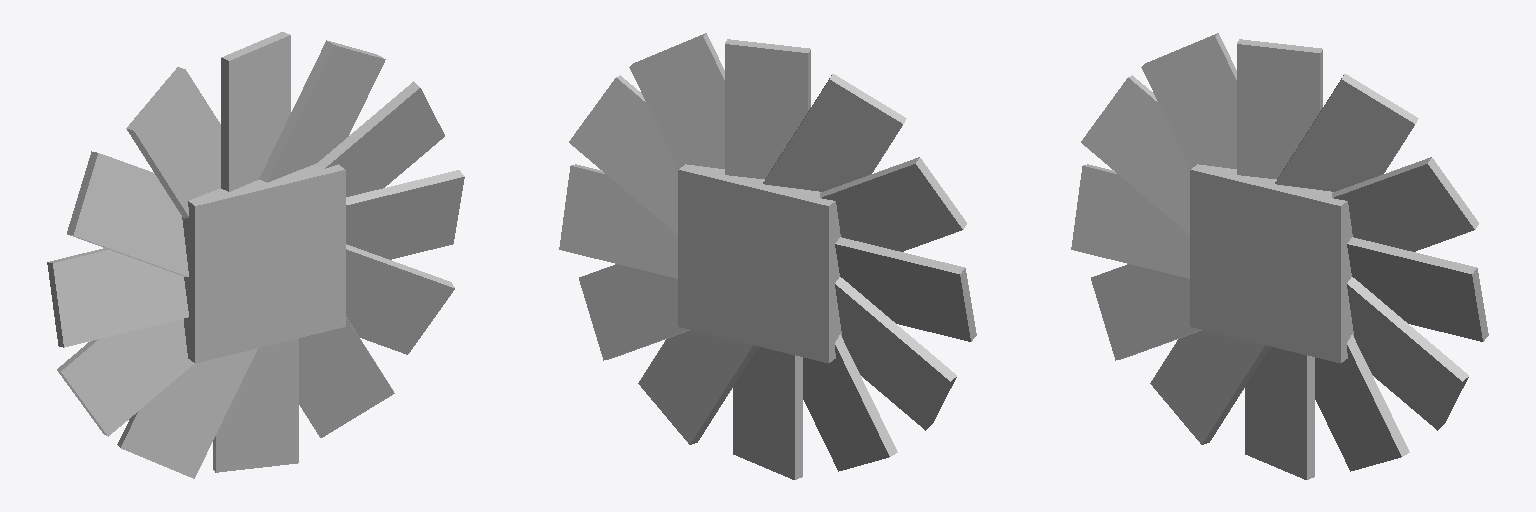
The model's file is turbine_hydro_wood.obj.
3 views of the same model, side by side, from view 1: azimuth 30°, elevation 25°; view 2: azimuth 150°, elevation 25°; view 3: azimuth 330°, elevation 25° (orthographic).
Parts seen in each view (by area): view 1: base, base.008, base.007, base.009, base.005, base.010, base.011, base.006, base.004, base.001, base.002, base.012 (+1 smaller); view 2: base, base.005, base.006, base.004, base.008, base.003, base.007, base.001, base.009, base.011, base.012, base.002 (+1 smaller); view 3: base, base.005, base.004, base.006, base.001, base.007, base.003, base.008, base.002, base.011, base.010, base.009 (+1 smaller).
Boxes of the visible parts, x1,y1,x2,y2 form: base: [182, 163, 345, 363]; base.008: [47, 248, 188, 347]; base.007: [67, 151, 188, 276]; base.009: [57, 319, 194, 436]; base.005: [221, 32, 290, 191]; base.010: [117, 348, 257, 478]; base.011: [213, 338, 298, 472]; base.006: [126, 67, 220, 218]; base.004: [259, 40, 385, 182]; base.001: [346, 170, 464, 259]; base.002: [346, 244, 454, 354]; base.012: [299, 317, 394, 437]; base: [678, 164, 841, 363]; base.005: [725, 39, 810, 178]; base.006: [763, 74, 906, 191]; base.004: [629, 33, 724, 168]; base.008: [835, 237, 976, 341]; base.003: [569, 75, 678, 234]; base.007: [820, 157, 966, 251]; base.001: [559, 164, 677, 278]; base.009: [835, 277, 956, 430]; base.011: [733, 347, 802, 479]; base.012: [638, 330, 758, 444]; base.002: [579, 264, 689, 360]; base: [1190, 164, 1353, 363]; base.005: [1237, 39, 1322, 178]; base.004: [1275, 74, 1418, 191]; base.006: [1141, 33, 1236, 168]; base.001: [1347, 237, 1488, 341]; base.007: [1081, 75, 1190, 234]; base.003: [1332, 157, 1478, 251]; base.008: [1071, 164, 1189, 278]; base.002: [1347, 277, 1468, 430]; base.011: [1245, 347, 1314, 479]; base.010: [1150, 330, 1270, 444]; base.009: [1091, 264, 1201, 360].
Bounding box in the file's own units: 1.6 × 1.6 × 0.2.